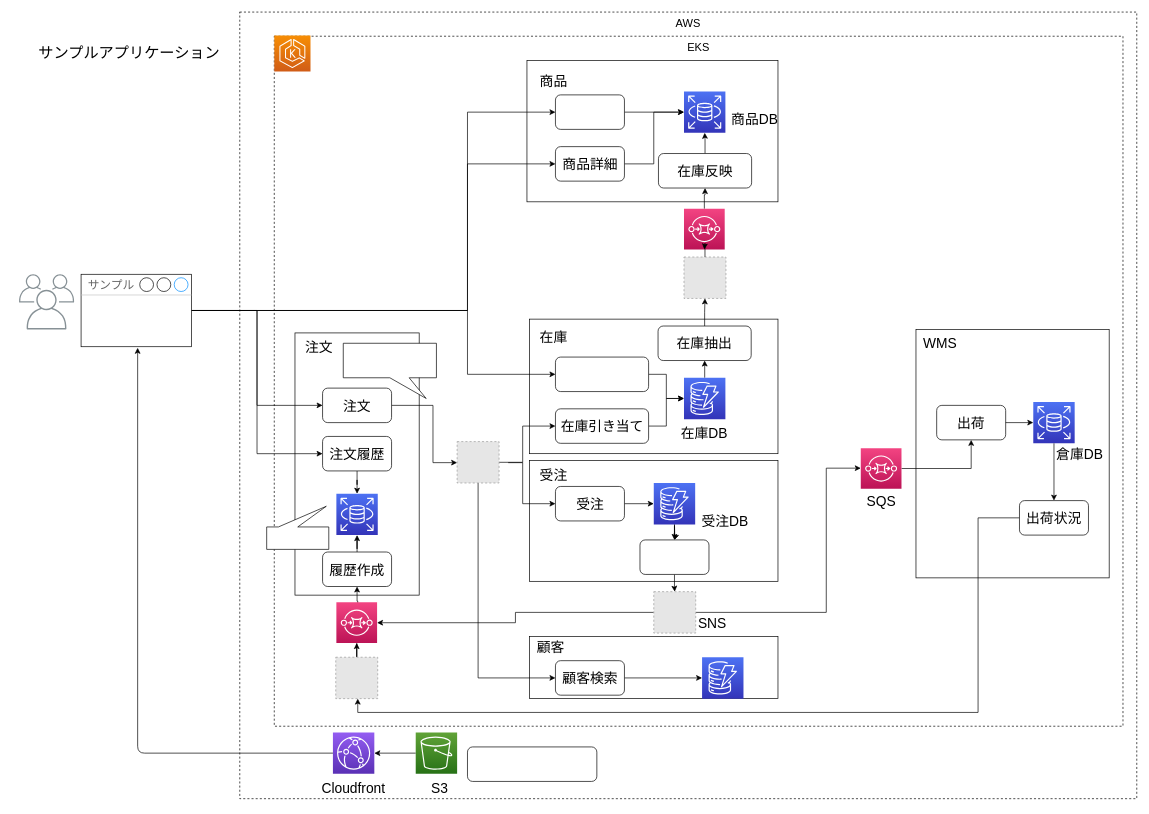
Some shapes in this 1149 by 814 pixel diagram are drawn without their labels. Grey dashed boxes stand in for pictures. The box of each missing label's shape, as (x1, y1, x2, y2) in pixels:
CQRS: (266, 506, 329, 549)
SAGAパターン: (343, 343, 436, 398)
エンドユーザー: (19, 274, 74, 329)
クライアントアプリ （React）: (467, 746, 597, 781)
出荷指示: (639, 539, 709, 574)
商品一覧: (555, 94, 624, 129)
在庫参照: (555, 356, 649, 392)
